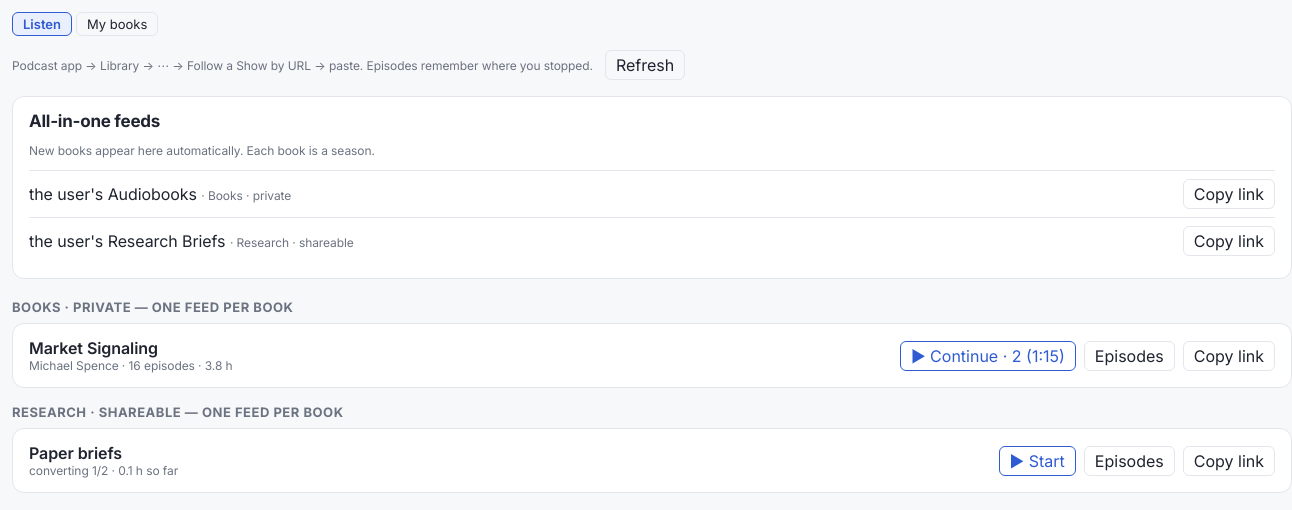
Audiobooks › lists books per feed and copies a per-book link
The width and height of the screenshot is (1292, 510).
Expected: the text "Market Signaling" is shown, [29,338,158,358]
Expected: the text "Michael Spence · 16 episodes · 3.8 h" is shown, [29,358,233,373]
Click the button "Copy link" in the row of "16 episodes · 3.8 h". click: x=1229, y=356
box: [1183,340,1275,370]
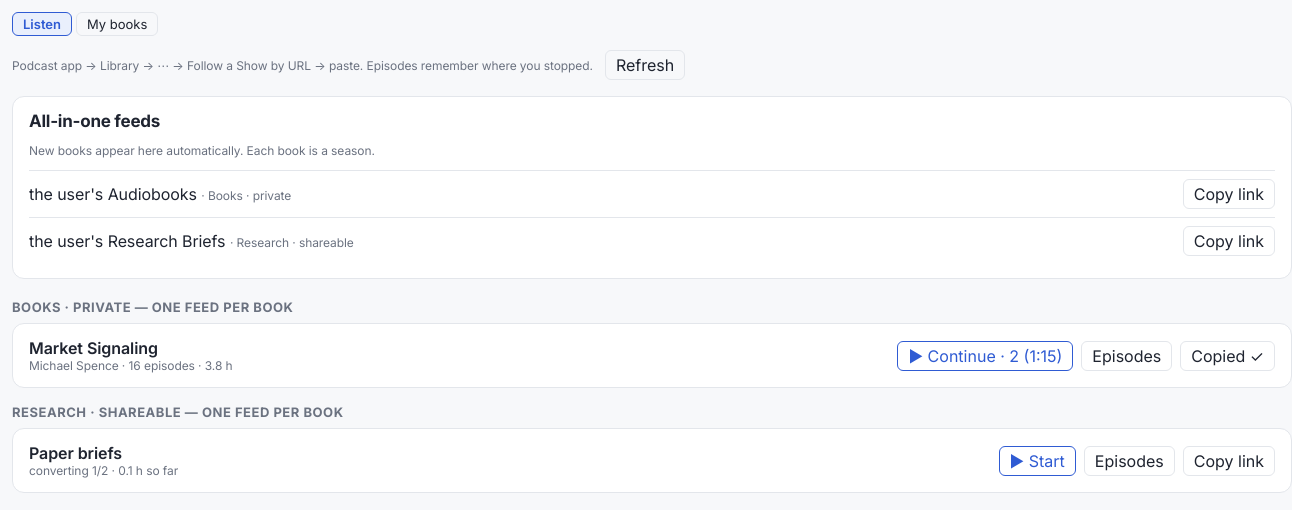
Expected: the button "Copied ✓" is shown, [1180,340,1275,370]
